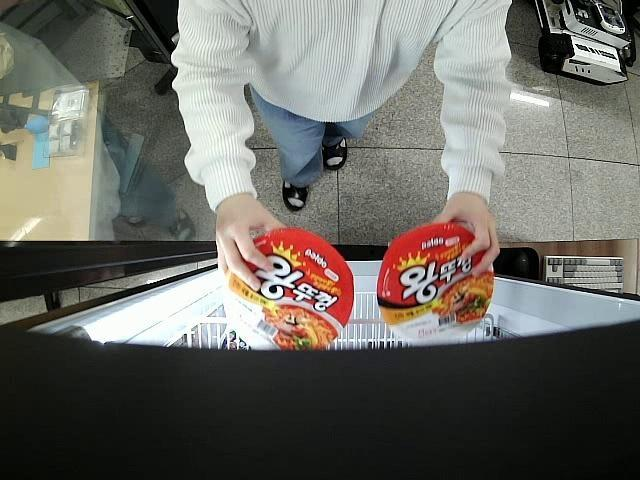10_wangTtukkeong: (222, 228, 353, 351), (376, 224, 494, 338)
